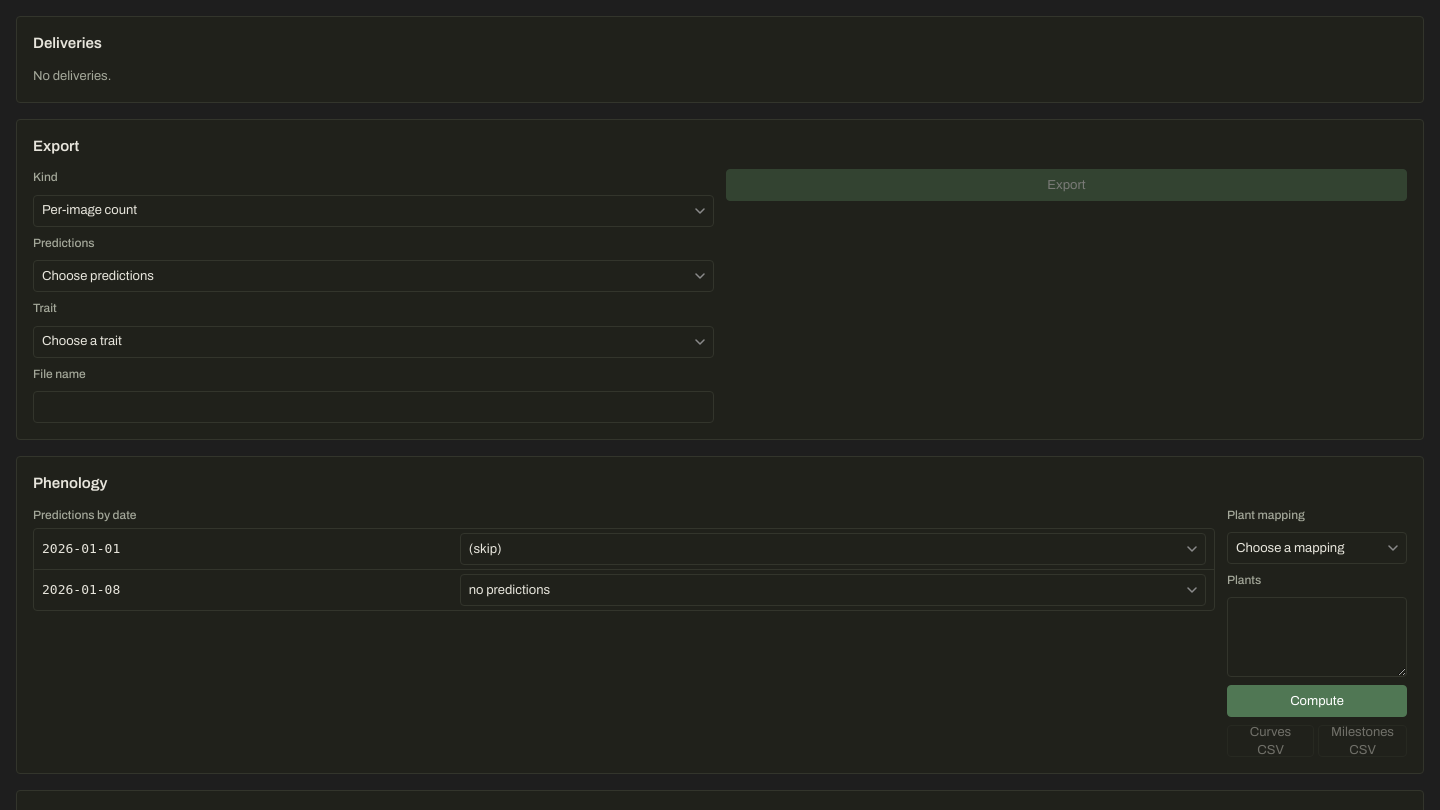
Test: ResultsTab evidence gate › answers a delivery refusal with the gate's own sentence
The image size is (1440, 810).
Expected: the text "2026-01-01" is shown, [34, 529, 460, 570]
Select "baseline/2026-01-01" in the dropdown titled "The bucket whose predictions to use for this date" at (833, 549), box [460, 533, 1206, 565]
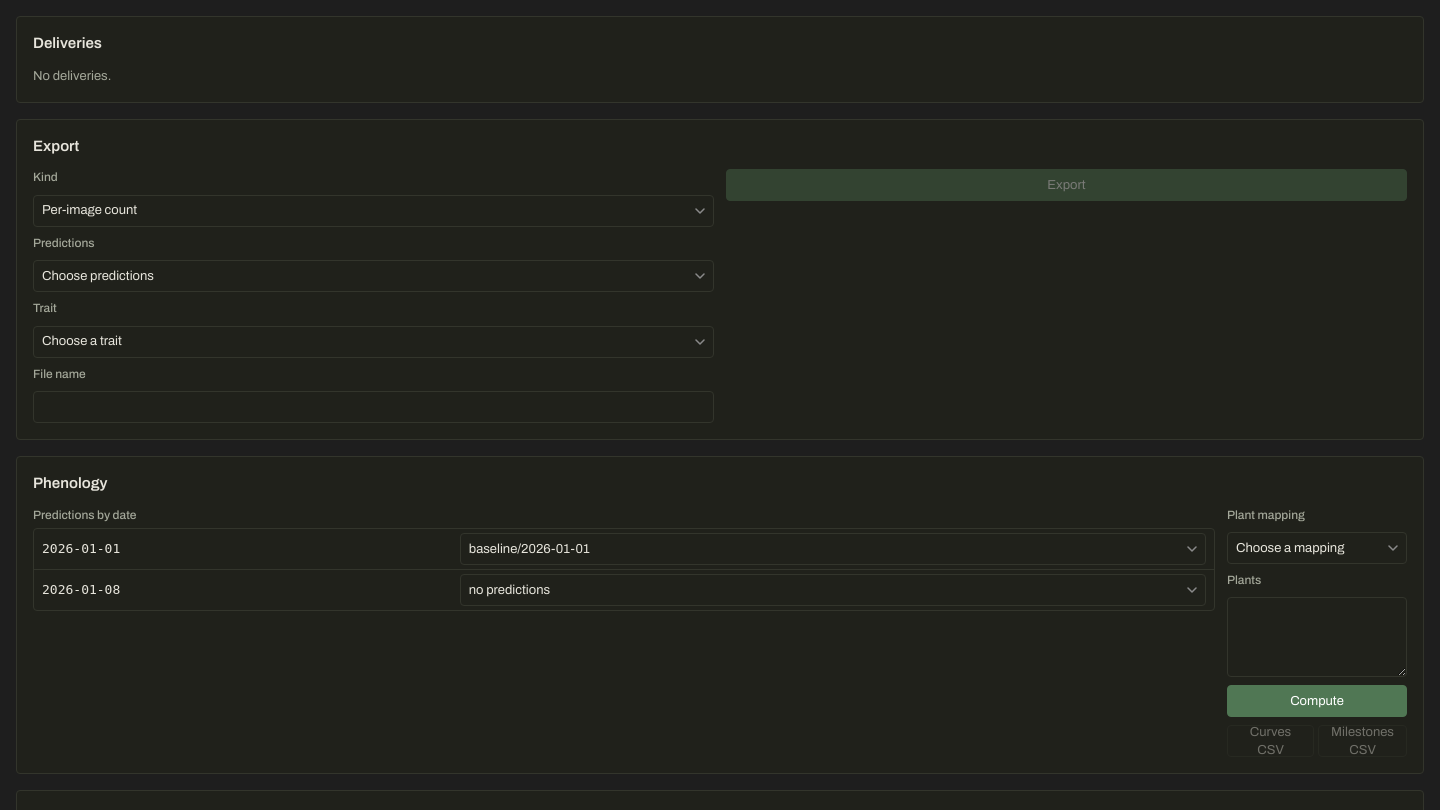
Type "P1" into the text box labelled "Plants" at (1317, 637), box [1227, 597, 1407, 677]
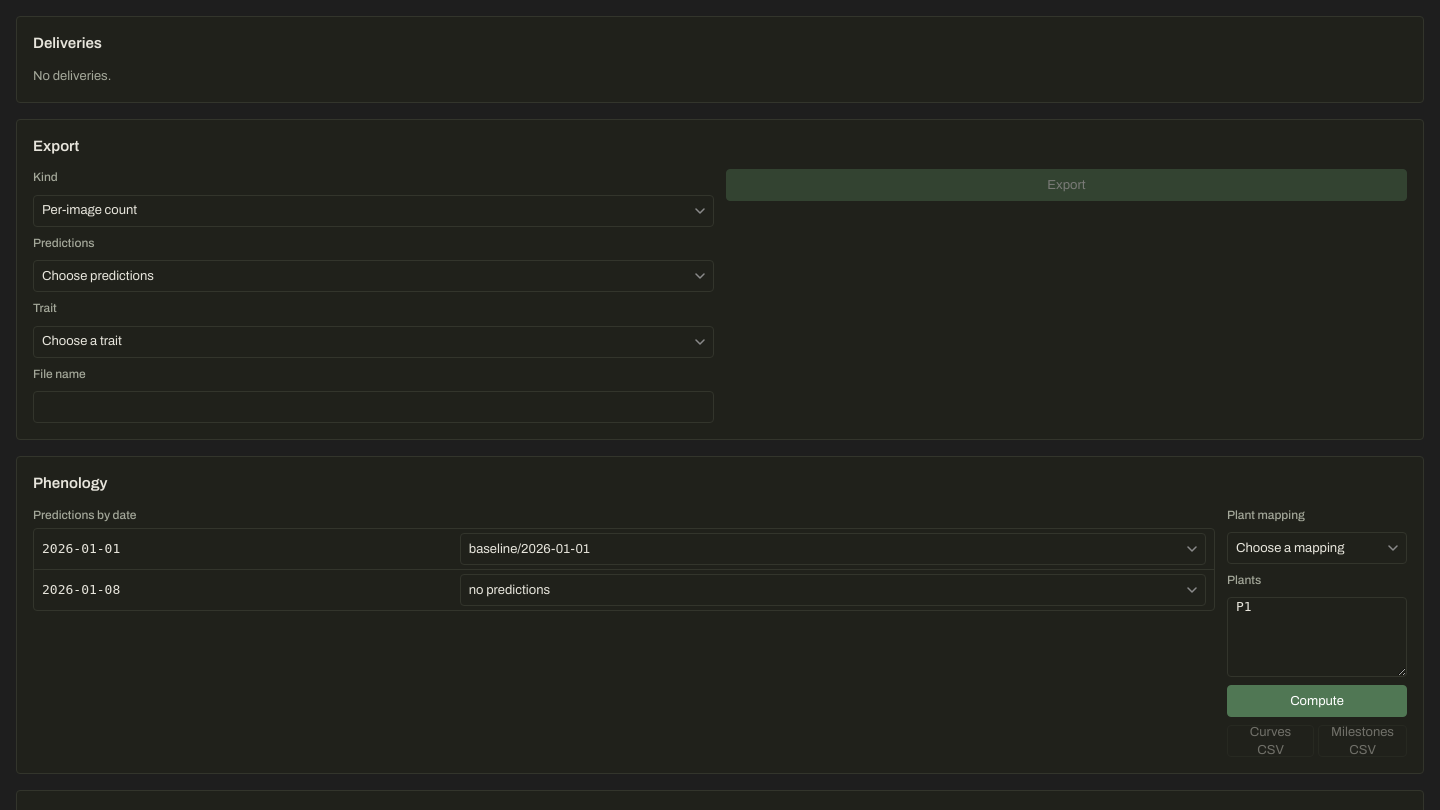
Click the button "Compute" at (1317, 701), box [1227, 685, 1407, 717]
(page scrolled)
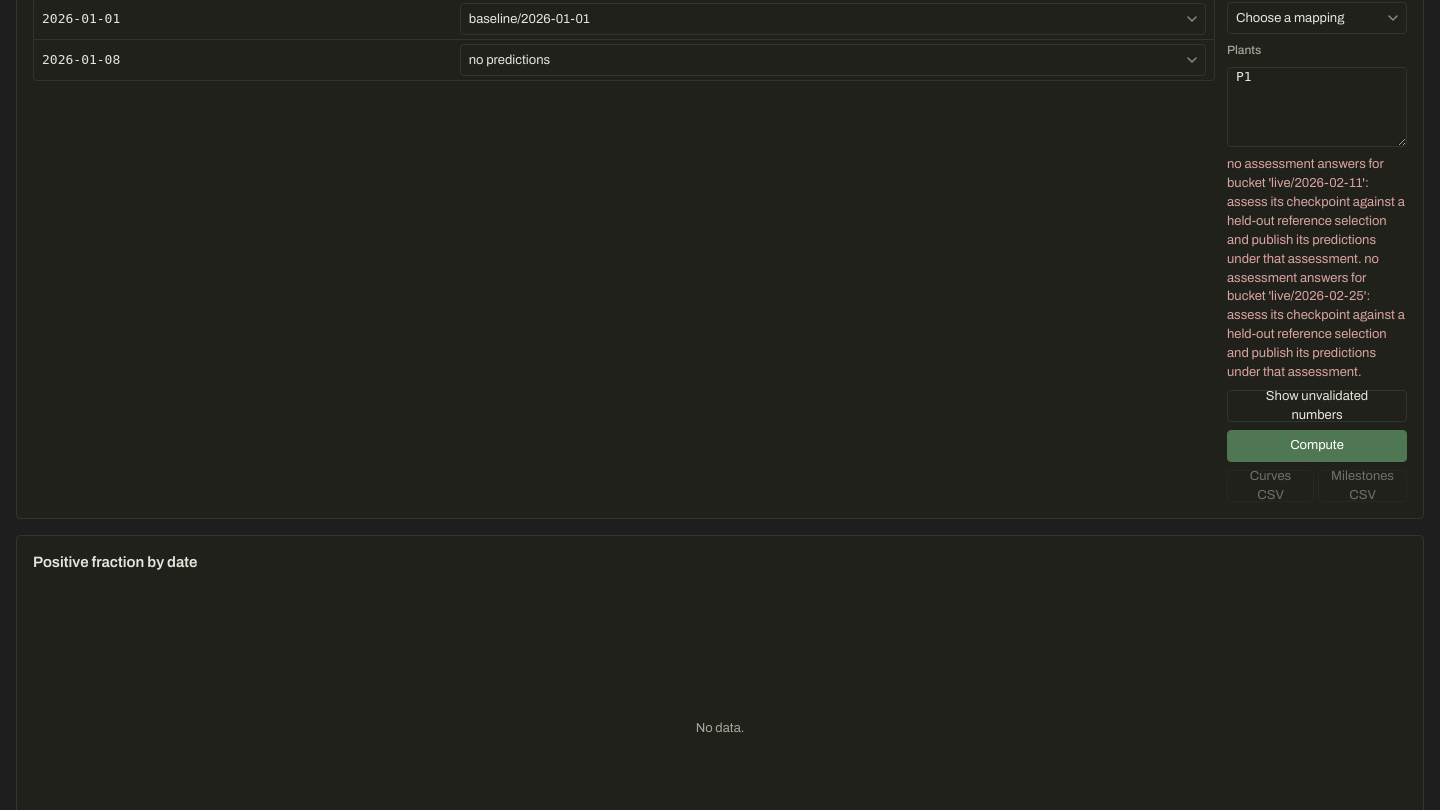
Expected: the text "no assessment answers for bucket 'live/2026-02-11': assess its checkpoint against a held-out reference selection and pub" is shown, [1227, 157, 1405, 379]
Expected: the button "Show unvalidated numbers" is shown, [1227, 390, 1407, 422]
